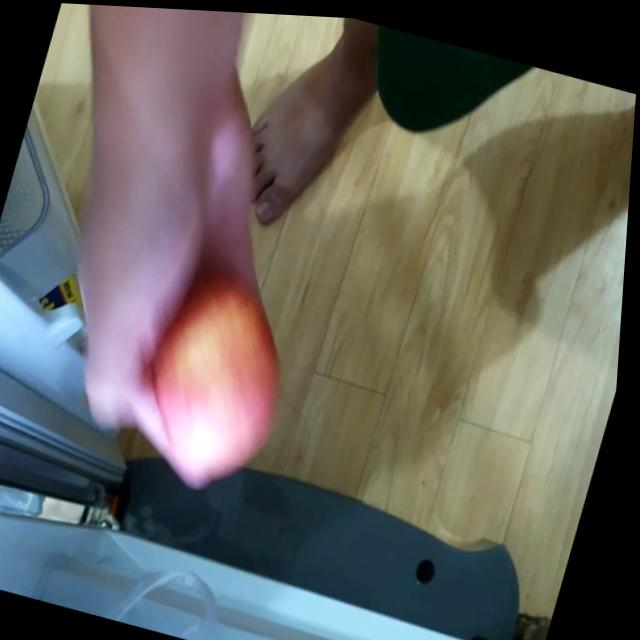apple: (130, 245, 318, 497)
